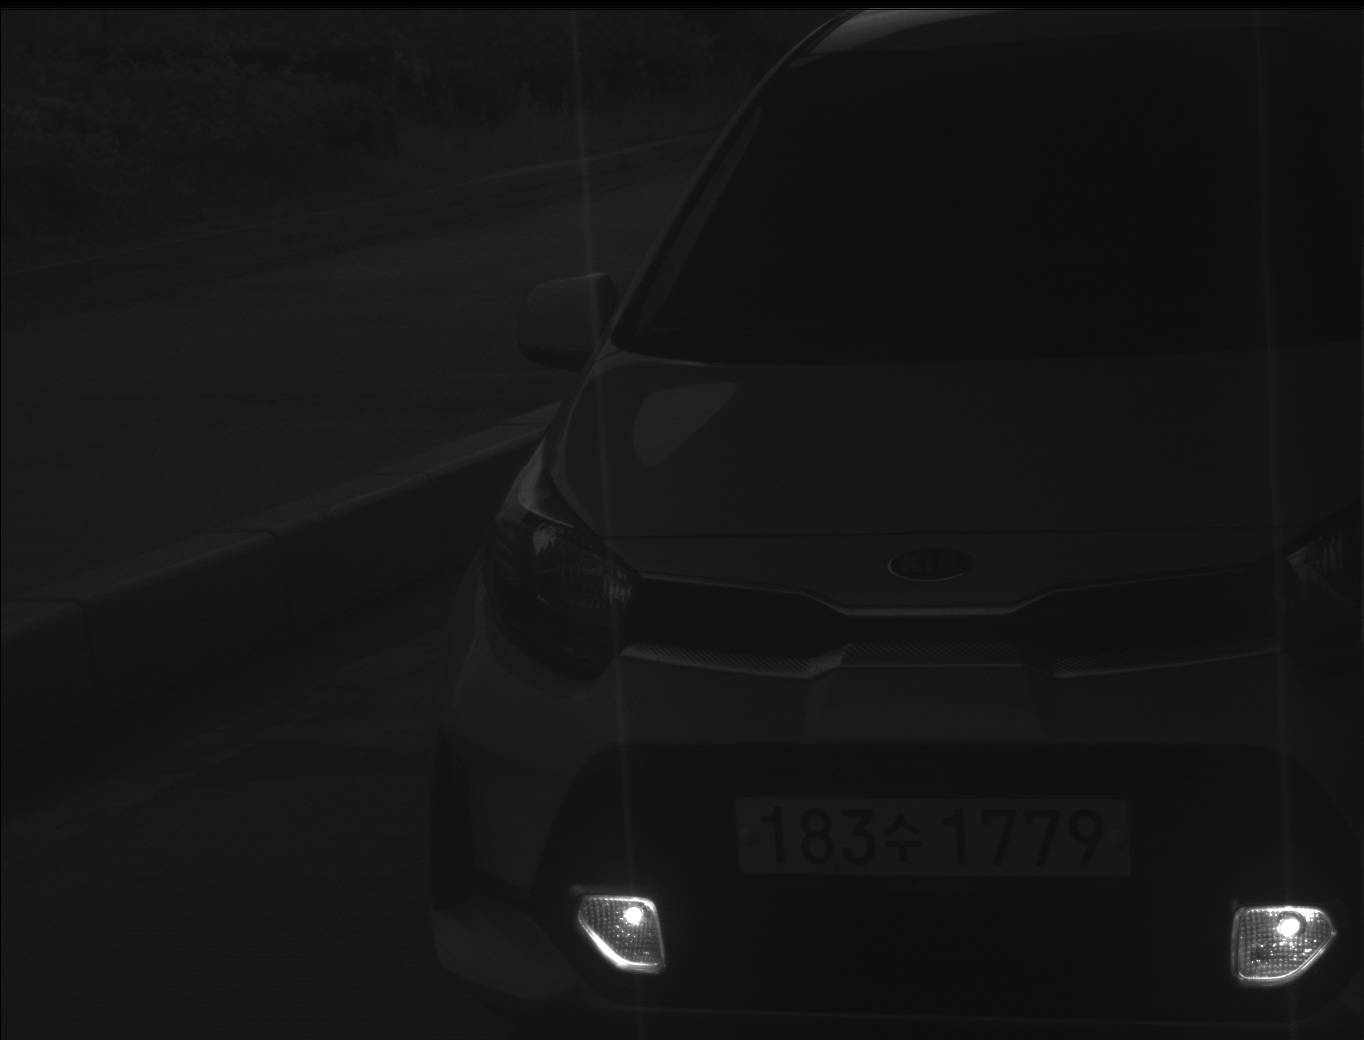car: (432, 2, 1364, 1040)
plate: (728, 797, 1135, 880)
